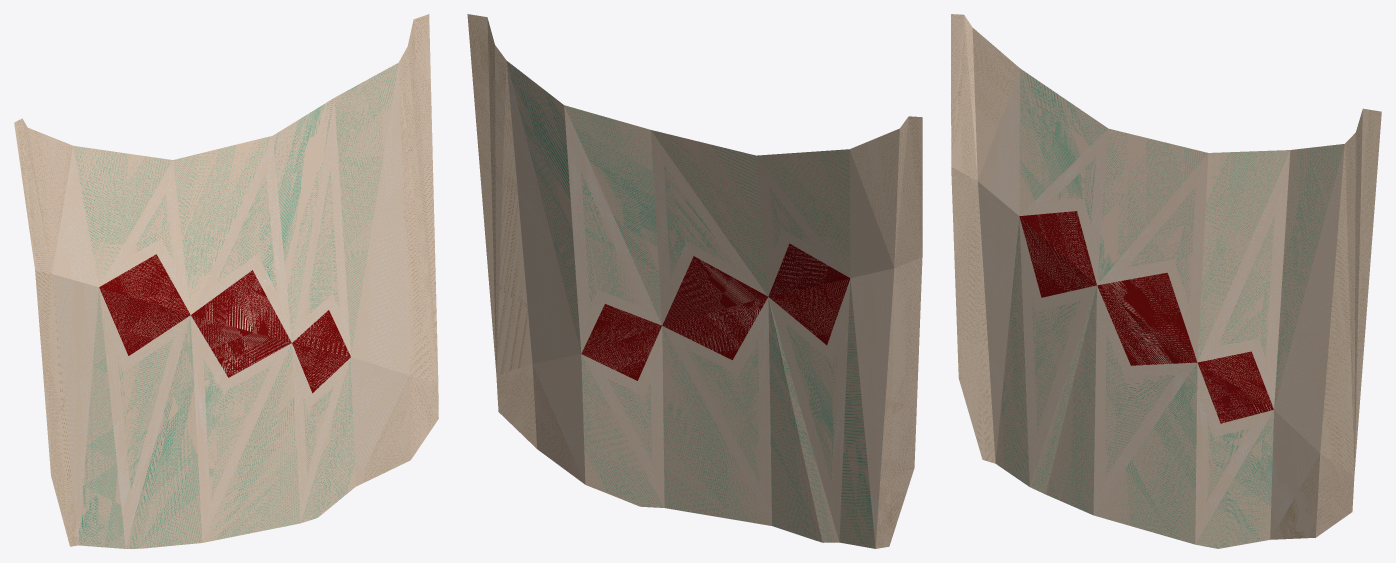
The model's file is Tribal_Plains_Hanging_Tapestry_Decoration_01.fbx.
The picture shows the model from 3 angles, left to right: view 1: azimuth 30°, elevation 25°; view 2: azimuth 150°, elevation 25°; view 3: azimuth 330°, elevation 25°; orthographic projection. The views are drawn at different scales.
Parts seen in each view (by area): view 1: Tribal_Plains_Hanging_Tapestry_Decoration_01; view 2: Tribal_Plains_Hanging_Tapestry_Decoration_01; view 3: Tribal_Plains_Hanging_Tapestry_Decoration_01.
Part boxes in pixels (<box>): Tribal_Plains_Hanging_Tapestry_Decoration_01: <box>14,14,438,548</box>; Tribal_Plains_Hanging_Tapestry_Decoration_01: <box>467,14,922,548</box>; Tribal_Plains_Hanging_Tapestry_Decoration_01: <box>951,14,1381,548</box>.
Bounding box in the file's own units: 2.34 × 2.39 × 0.3094.
